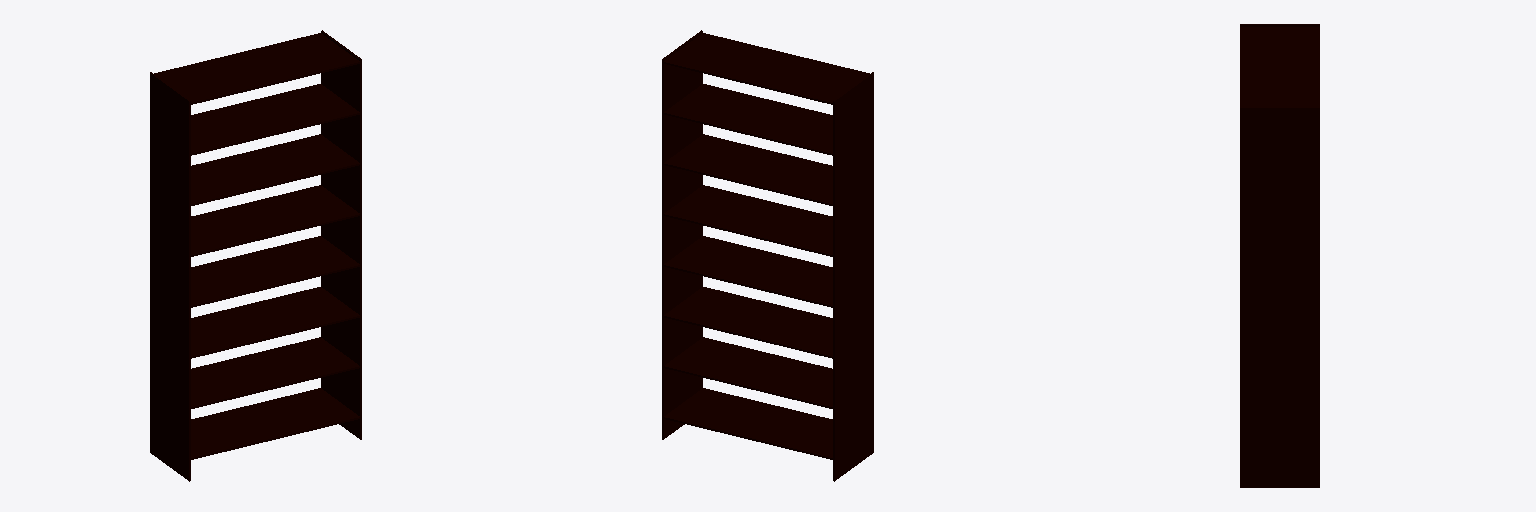
Rendered from bookcase.obj.
3 renders of one model, left to right at view 1: azimuth 30°, elevation 25°; view 2: azimuth 150°, elevation 25°; view 3: azimuth 270°, elevation 25°, orthographic.
Parts seen in each view (by area): view 1: Montant_1_2, Montant_1, Etagere_2_5, Etagere_3, Etagere_6_9, Etagere_3_6, Etagere_4_7, Etagere_5_8, Etagere_7_10, Etagere_8_11; view 2: Montant_1_2, Montant_1, Etagere_2_5, Etagere_3, Etagere_4_7, Etagere_6_9, Etagere_3_6, Etagere_5_8, Etagere_8_11, Etagere_7_10; view 3: Montant_1, Etagere_2_5.
Boxes of the visible parts, <box> form: Montant_1_2: <box>150,72,190,481</box>; Montant_1: <box>321,30,361,439</box>; Etagere_2_5: <box>154,33,359,104</box>; Etagere_3: <box>190,388,361,459</box>; Etagere_6_9: <box>190,337,359,409</box>; Etagere_3_6: <box>190,84,359,155</box>; Etagere_4_7: <box>191,134,359,205</box>; Etagere_5_8: <box>191,236,361,307</box>; Etagere_7_10: <box>191,287,361,358</box>; Etagere_8_11: <box>191,185,359,256</box>; Montant_1_2: <box>833,72,873,481</box>; Montant_1: <box>662,30,702,439</box>; Etagere_2_5: <box>664,33,869,104</box>; Etagere_3: <box>664,388,832,459</box>; Etagere_4_7: <box>664,134,832,205</box>; Etagere_6_9: <box>664,337,832,408</box>; Etagere_3_6: <box>664,84,832,155</box>; Etagere_5_8: <box>664,236,832,307</box>; Etagere_8_11: <box>664,185,832,256</box>; Etagere_7_10: <box>664,287,832,358</box>; Montant_1: <box>1240,107,1319,487</box>; Etagere_2_5: <box>1240,27,1319,106</box>.
Size of the model in its own units: 100 by 211 by 40.01.